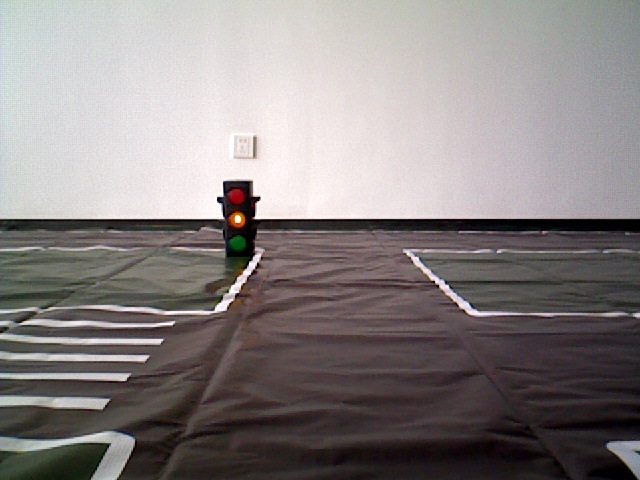yellow: (222, 181, 255, 259)
